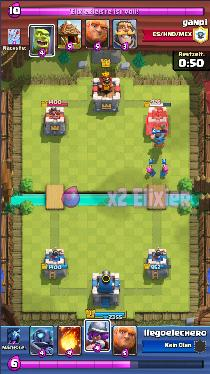ally_archer: (159, 163, 170, 178), (146, 166, 156, 175)
ally_knight: (150, 130, 168, 147)
